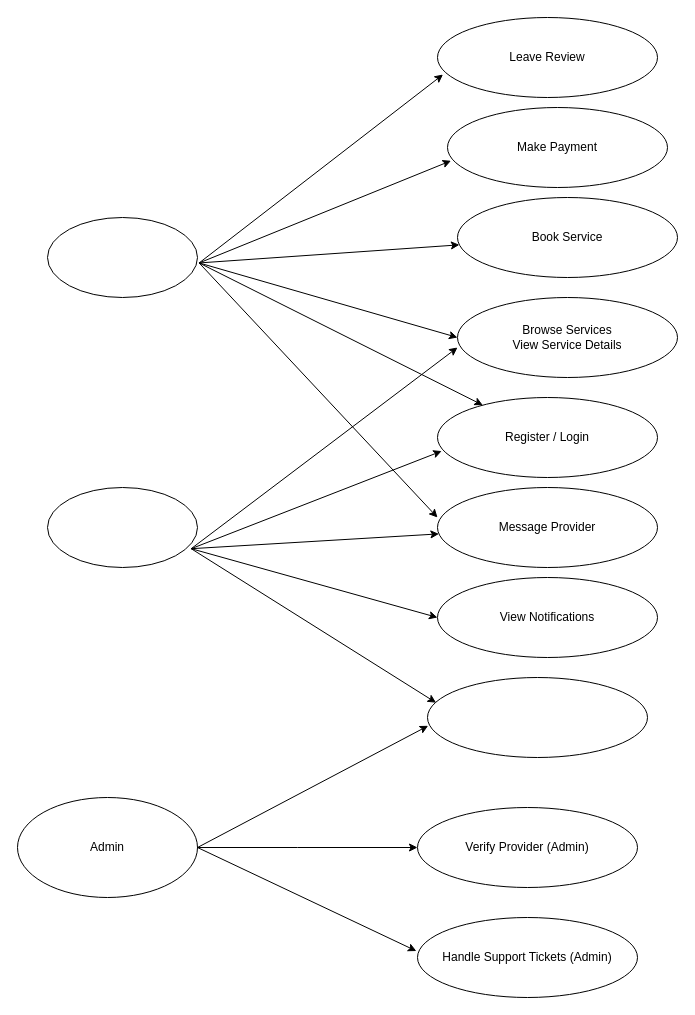
The diagram is 695 pixels wide and 1015 high, and some of its shapes have lost their labels. Each missing label, with the box of its shape:
Manage Services (Provider) Manage Bookings (Provider): (426, 676, 648, 758)
Provider: (46, 486, 198, 568)
User: (46, 216, 198, 298)
